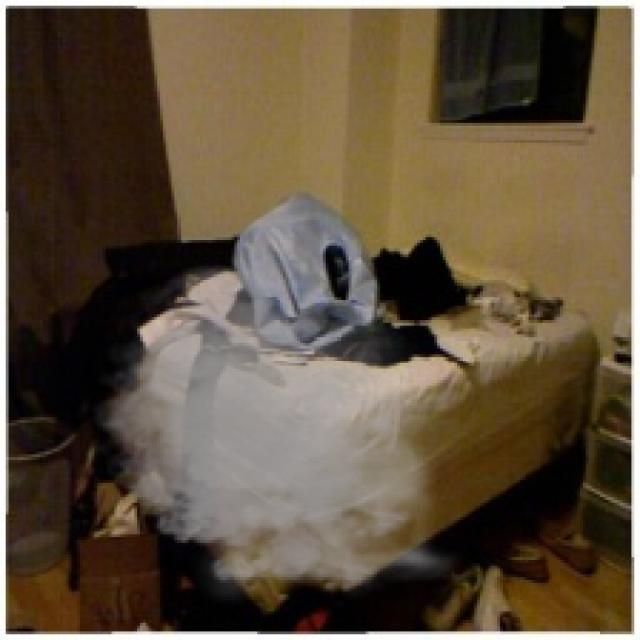smoke: (83, 254, 468, 609)
